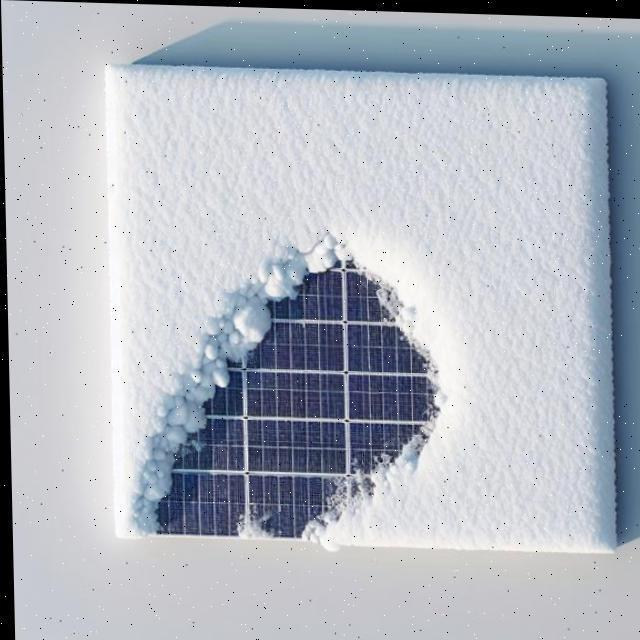Anomaly Solar Panel: (105, 60, 611, 546)
Snow: (105, 61, 613, 547)
